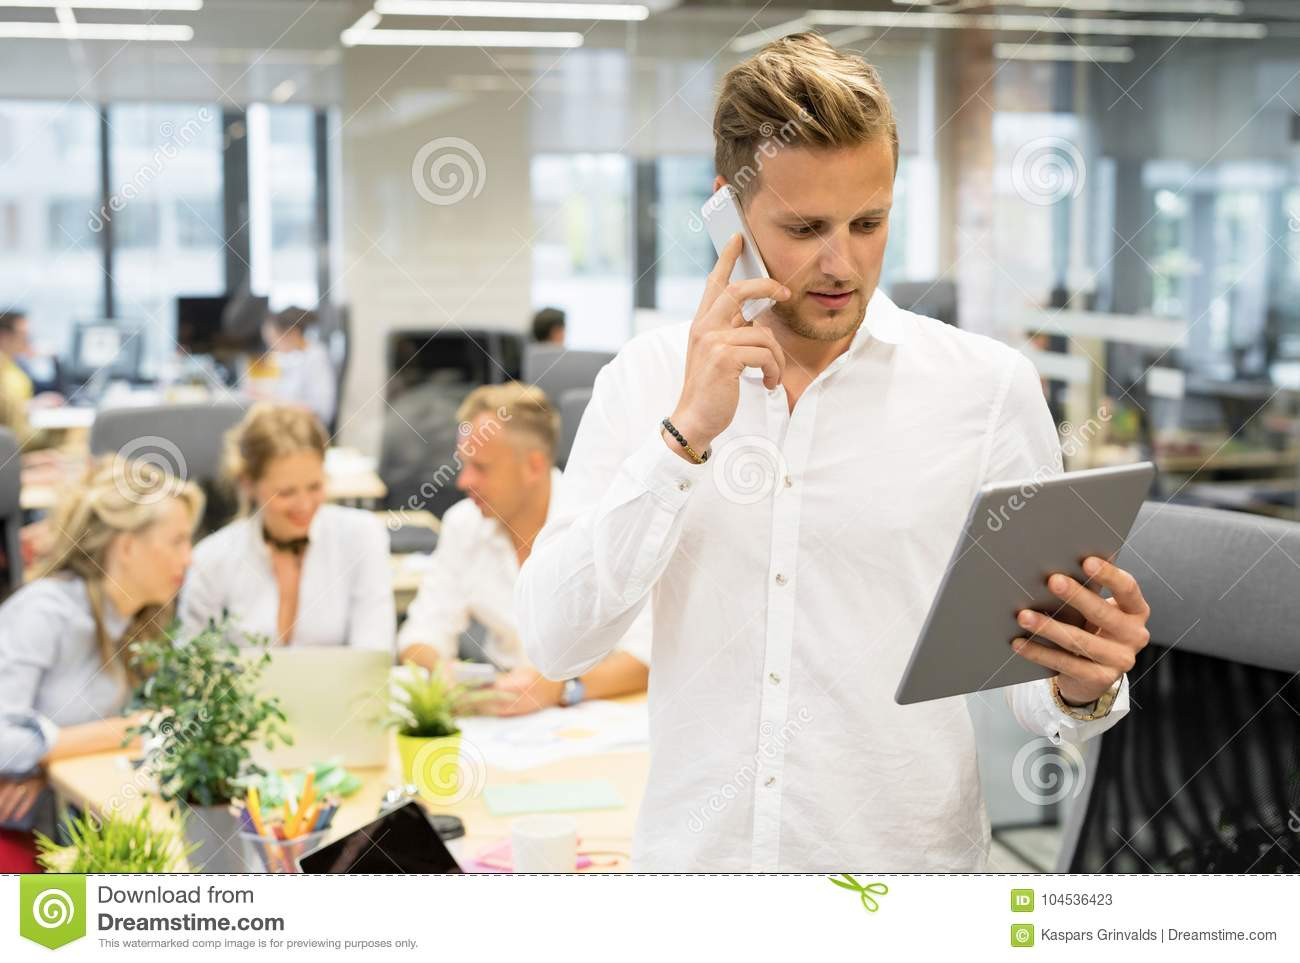phone: (699, 185, 784, 332)
talk: (680, 181, 891, 450)
